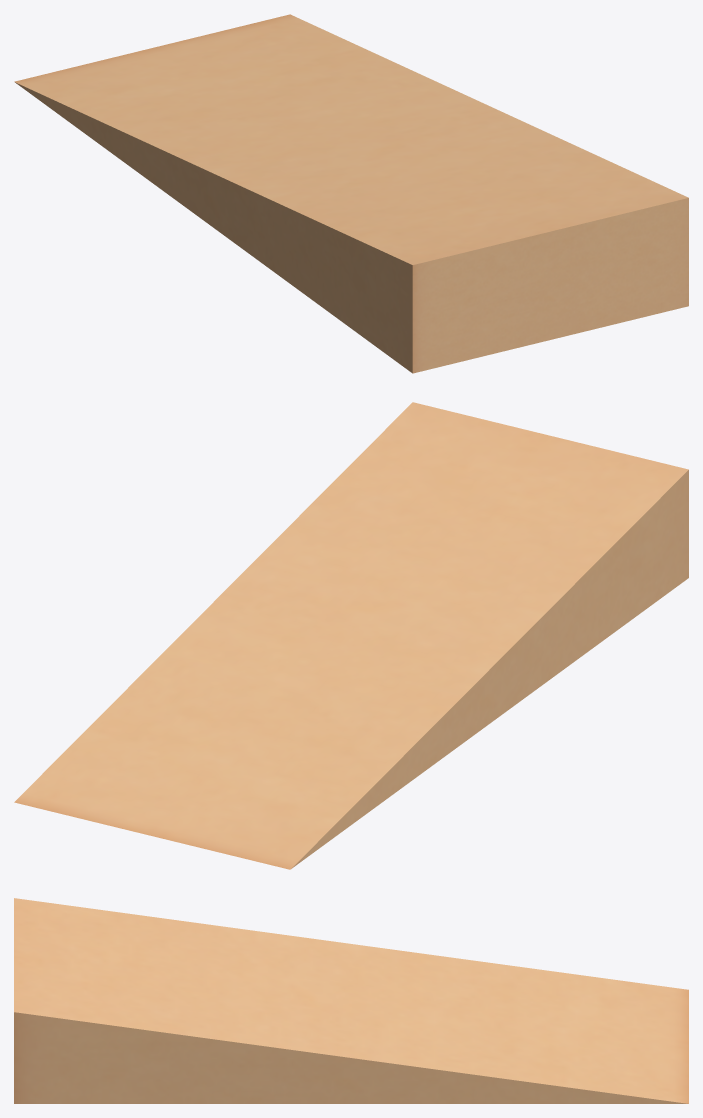
File: Ramp.fbx
The picture shows the model from 3 angles, top to bottom: view 1: azimuth 30°, elevation 25°; view 2: azimuth 150°, elevation 25°; view 3: azimuth 270°, elevation 25°; orthographic projection. The views are drawn at different scales.
Parts seen in each view (by area): view 1: Ramp; view 2: Ramp; view 3: Ramp.
Part boxes in pixels (x1=…): Ramp: x1=14, y1=14, x2=688, y2=373; Ramp: x1=14, y1=402, x2=688, y2=869; Ramp: x1=14, y1=898, x2=688, y2=1103.
Size of the model in its own units: 1.2 by 0.45 by 3.
